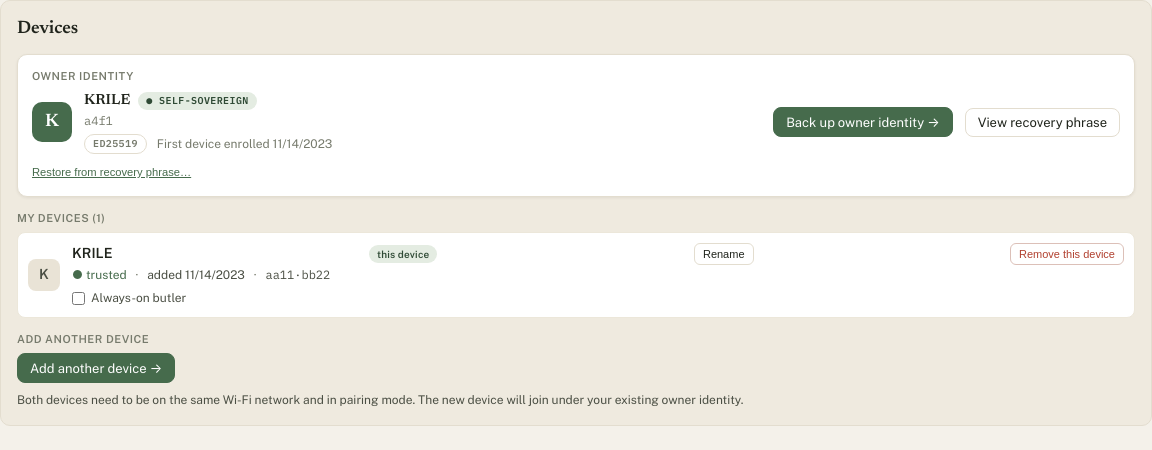
Scenario: DevicesPanel — rename › clicking Rename shows inline edit field with current name pre-filled
Step 1. Click the button "Rename" → (724, 254), box [694,243,754,265]
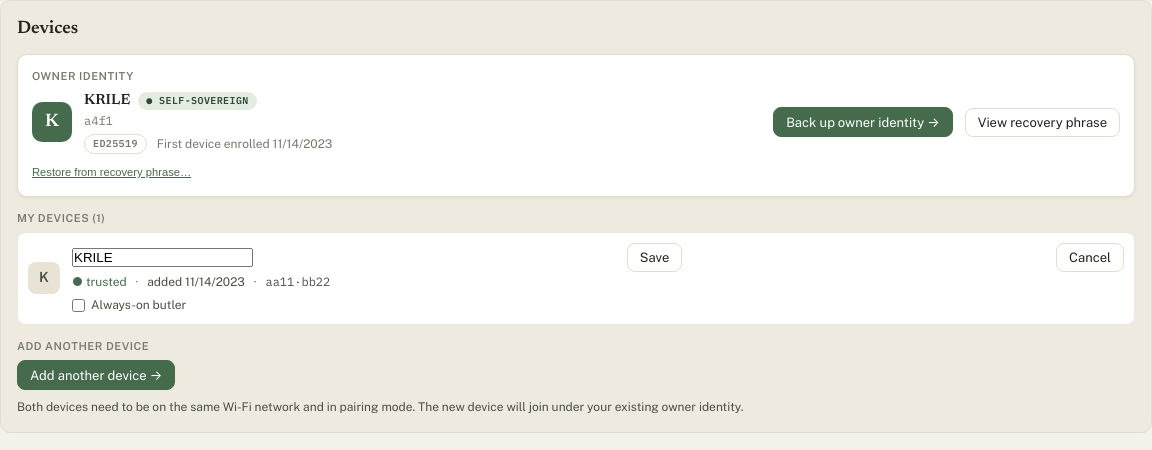
Result: the field named "device name" holds "KRILE" at [72,248,253,267]
